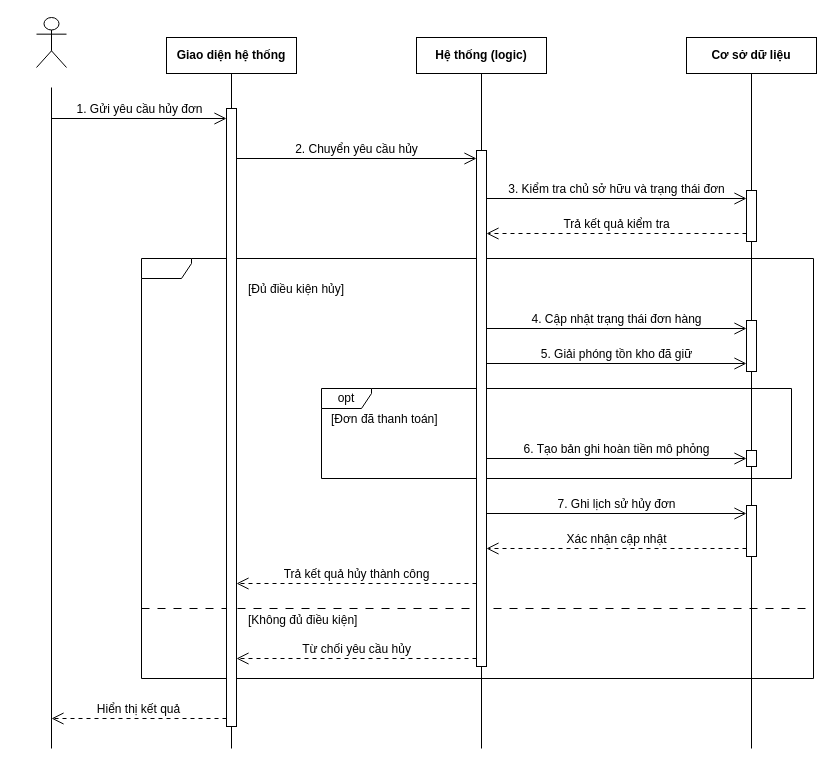
Image size: 834x767. Some labels were removed from this diagram. The shapes that lost their labels are listed below. From the top down, each one's box as (x1, y1, x2, y2) in pixels, then its label:
(36, 16, 66, 68): Khách hàng
(140, 258, 814, 678): Alt
